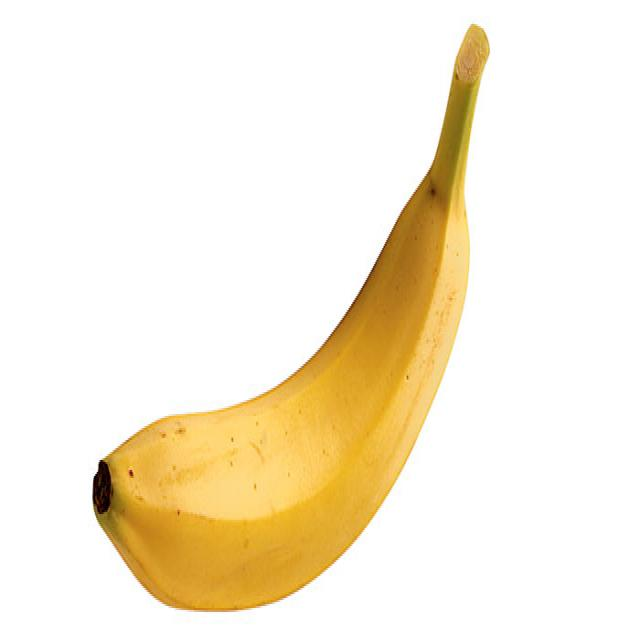banana: (96, 23, 493, 609)
